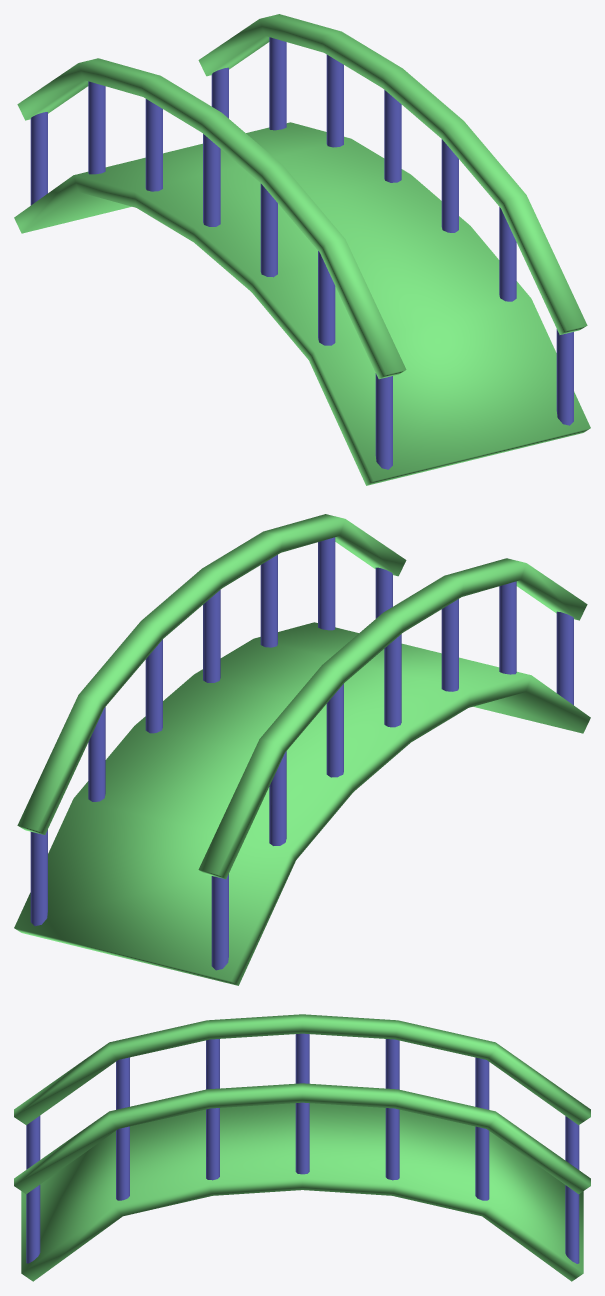
File: WS_VR_FBX_Pont 1.fbx
3 renders of one model, top to bottom at view 1: azimuth 30°, elevation 25°; view 2: azimuth 150°, elevation 25°; view 3: azimuth 270°, elevation 25°, orthographic. The views are drawn at different scales.
Visible parts, largest first — view 1: pont.geo; view 2: pont.geo; view 3: pont.geo.
Boxes of the visible parts, box(x1,y1,x2,y2) form: pont.geo: box(14, 14, 590, 485); pont.geo: box(14, 514, 590, 985); pont.geo: box(14, 1014, 590, 1281).
Size of the model in its own units: 218 by 231 by 643.
